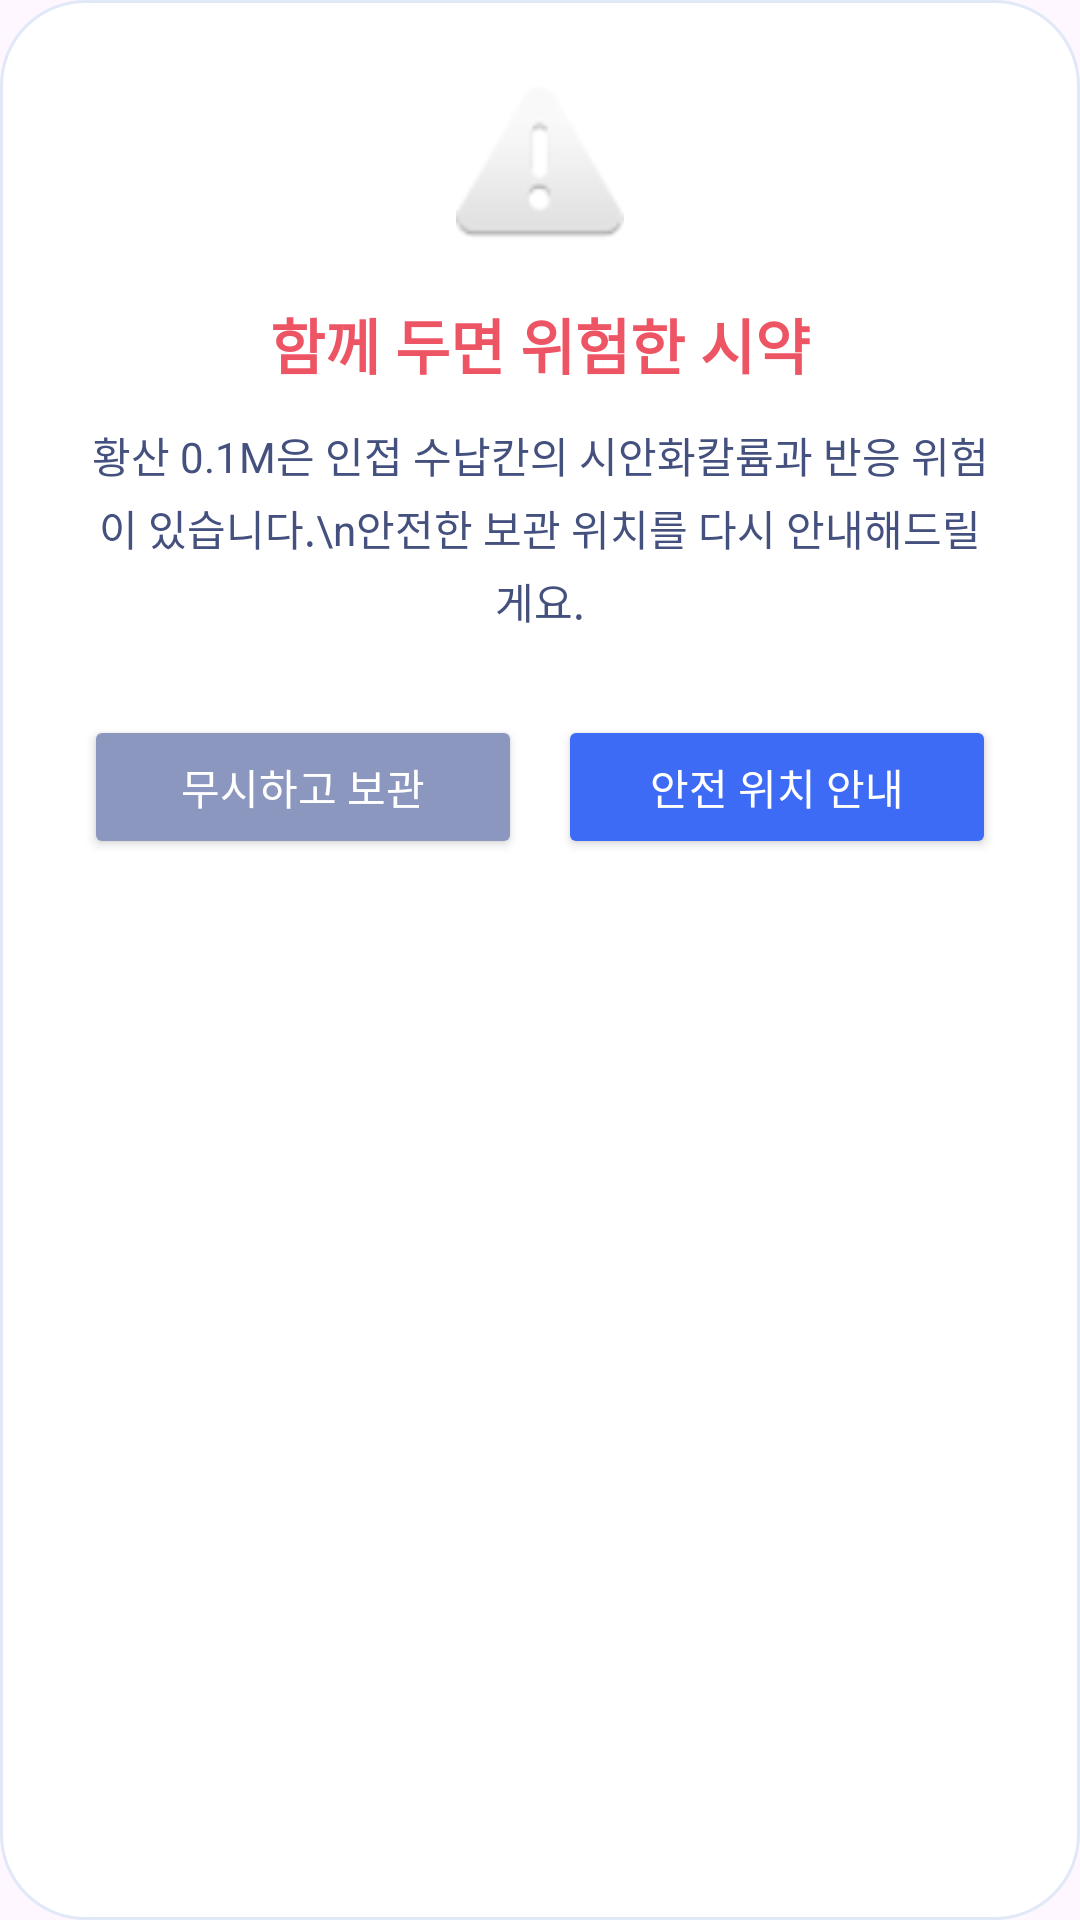

Named icons in this screenshot (1080px×1920px) and their bounding boxes, (x1, y1, x2, y2):
warning icon: (456, 123, 624, 236)
